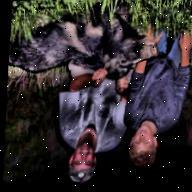boar: (10, 0, 166, 95)
